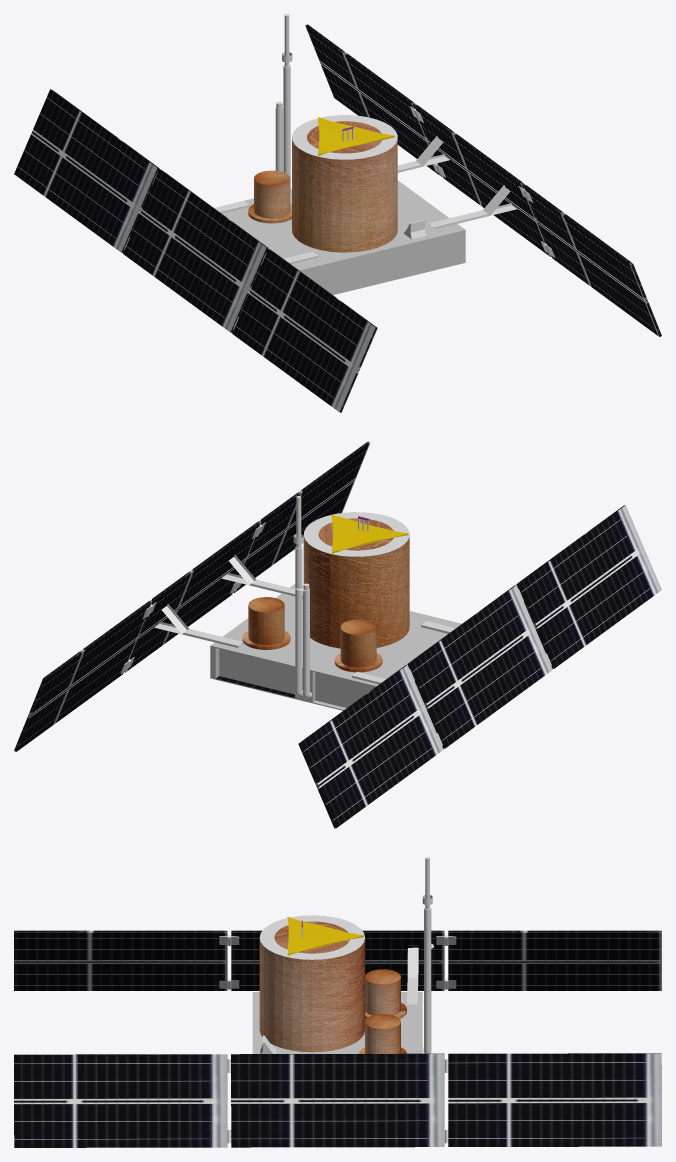
The model's file is apollo11.glb.
3 views of the same model, one above another, from view 1: azimuth 30°, elevation 25°; view 2: azimuth 150°, elevation 25°; view 3: azimuth 270°, elevation 25° (orthographic).
Visible parts, largest first — view 1: Cube.003, Cube.001, Cube.002, Cylinder.008, Cube, Cube.005, Cube.006, Cube.004, Cylinder.010, Circle, Cylinder.011, Cube.008 (+1 smaller); view 2: Cube.002, Cube.003, Cube.001, Cylinder.008, Cube, Cube.006, Cube.004, Cube.005, Cylinder.010, Cylinder.009, Cylinder.011, Circle (+3 smaller); view 3: Cube.004, Cube.005, Cube.006, Cube.002, Cube.003, Cylinder.008, Cube.001, Cube, Cylinder.010, Cylinder.011, Circle, Cylinder.009 (+1 smaller).
Boxes of the visible parts, bbox=[...] form: Cube.003: bbox=[232, 249, 377, 412]; Cube.001: bbox=[123, 169, 268, 332]; Cube.002: bbox=[14, 89, 159, 252]; Cylinder.008: bbox=[292, 115, 397, 252]; Cube: bbox=[222, 180, 465, 294]; Cube.005: bbox=[523, 185, 661, 336]; Cube.006: bbox=[305, 24, 442, 176]; Cube.004: bbox=[414, 104, 551, 256]; Cylinder.010: bbox=[248, 170, 291, 223]; Circle: bbox=[318, 117, 394, 155]; Cylinder.011: bbox=[282, 14, 292, 188]; Cube.008: bbox=[428, 185, 517, 229]; Cube.002: bbox=[298, 665, 443, 828]; Cube.003: bbox=[516, 505, 661, 668]; Cube.001: bbox=[407, 585, 552, 748]; Cylinder.008: bbox=[303, 512, 409, 648]; Cube: bbox=[210, 584, 461, 710]; Cube.006: bbox=[14, 600, 152, 751]; Cube.004: bbox=[124, 520, 261, 672]; Cube.005: bbox=[233, 441, 370, 592]; Cylinder.010: bbox=[334, 619, 382, 672]; Cylinder.009: bbox=[242, 597, 290, 649]; Cylinder.011: bbox=[293, 496, 303, 697]; Circle: bbox=[331, 515, 408, 553]; Cube.004: bbox=[231, 1053, 444, 1147]; Cube.005: bbox=[14, 1054, 227, 1147]; Cube.006: bbox=[448, 1053, 661, 1146]; Cube.002: bbox=[448, 930, 661, 990]; Cube.003: bbox=[14, 930, 227, 990]; Cylinder.008: bbox=[259, 915, 365, 1052]; Cube.001: bbox=[231, 930, 444, 990]; Cube: bbox=[252, 992, 422, 1053]; Cylinder.010: bbox=[365, 969, 406, 1018]; Cylinder.011: bbox=[422, 857, 432, 1053]; Circle: bbox=[287, 917, 363, 955]; Cylinder.009: bbox=[359, 1014, 406, 1053].
Bounding box in the file's own units: 14.5 × 9.04 × 25.32.
8 materials, 3 textured.
